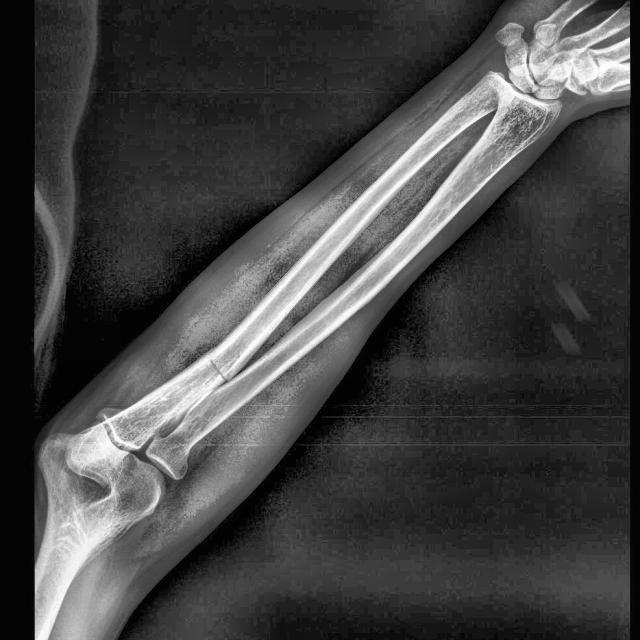fracture: (206, 348, 230, 384)
